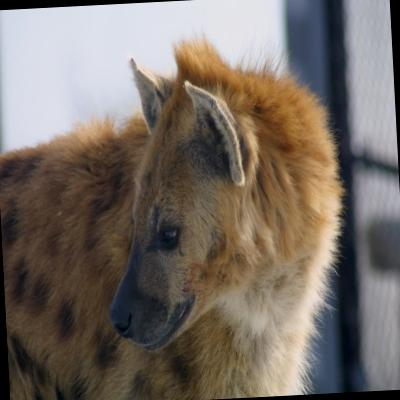hyenas: (0, 25, 380, 400)
